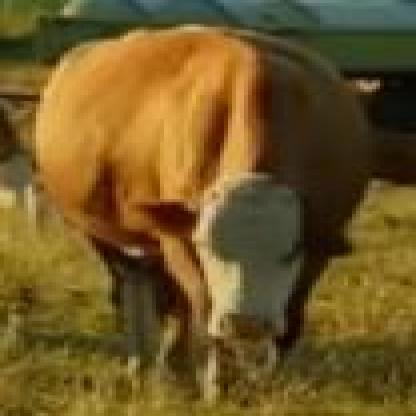cow: (36, 24, 372, 407)
